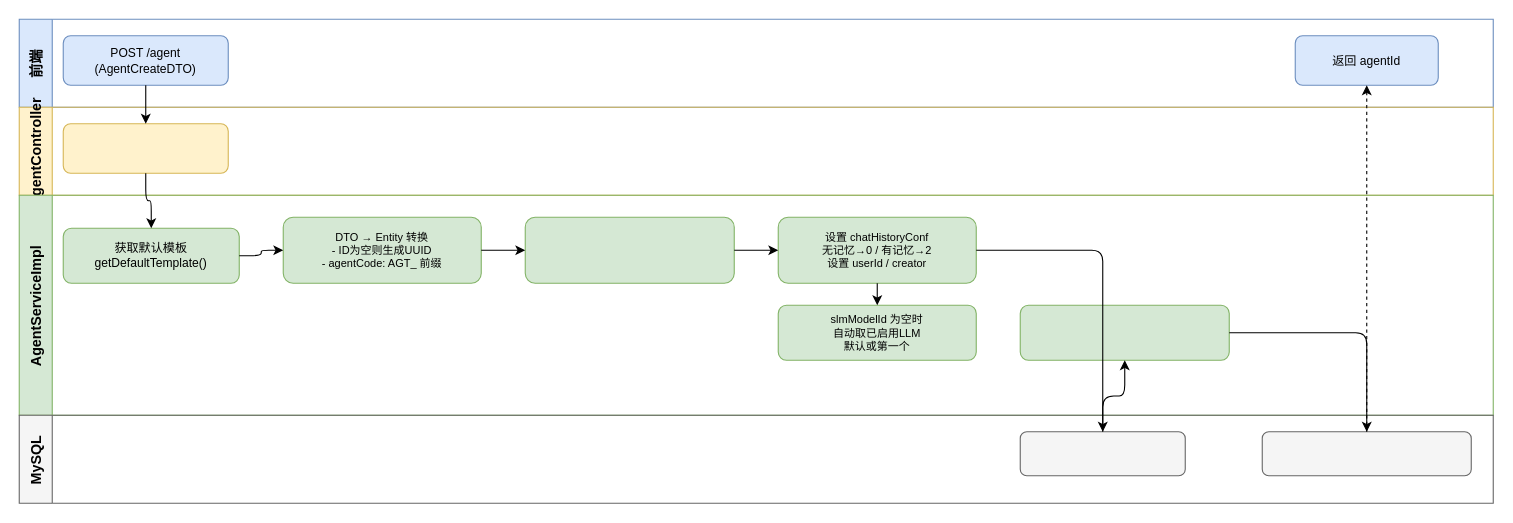
Image size: 1513x523. Some labels were removed from this diagram. Here are the shapes that lost their labels. From the top down, the centre of each, then its label:
the point at 145,148: createAgent(dto)
the point at 629,249: 模板覆盖默认值 ASR/VAD/LLM/VLLM/TTS 音色/记忆模型/系统提示词
the point at 1124,332: 批量创建 3 个系统插件映射 音乐 / 天气 / 新闻
the point at 1102,453: INSERT ai_agent
the point at 1366,453: INSERT ai_agent_plugin_mapping ×3
